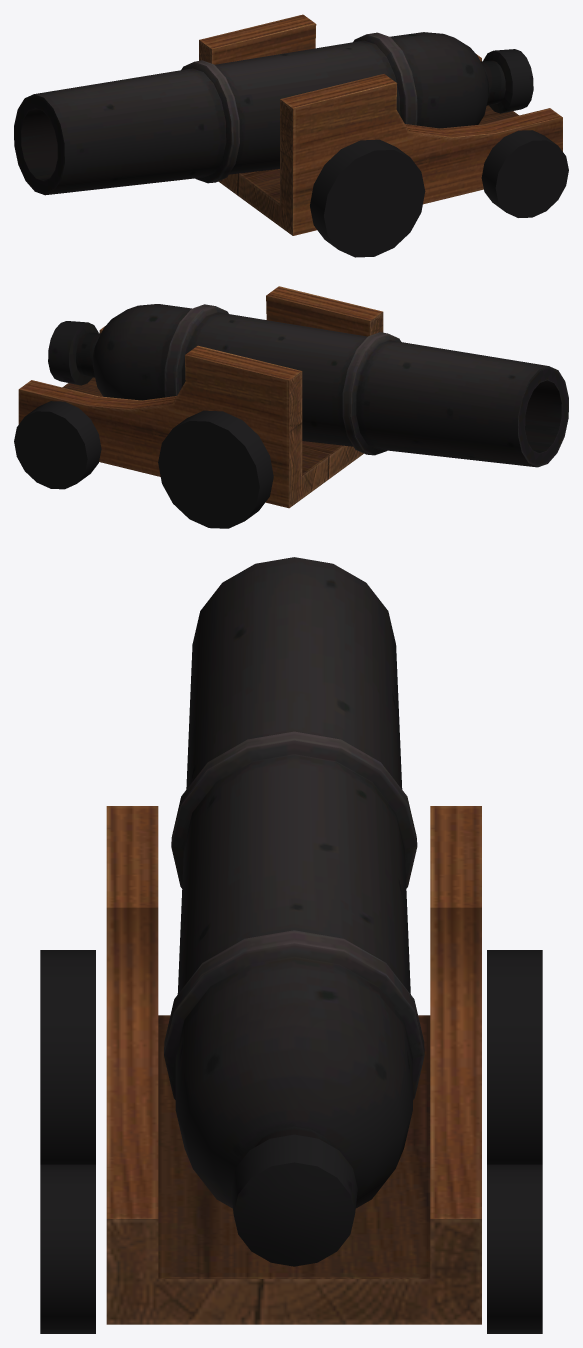
The model's file is Boat_Cannon.fbx.
3 views of the same model, one above another, from view 1: azimuth 30°, elevation 25°; view 2: azimuth 150°, elevation 25°; view 3: azimuth 270°, elevation 25° (orthographic). The views are drawn at different scales.
Visible parts, largest first — view 1: Boat_Cannon; view 2: Boat_Cannon; view 3: Boat_Cannon.
Boxes of the visible parts, x1,y1,x2,y2 form: Boat_Cannon: (14, 14, 568, 257); Boat_Cannon: (14, 286, 568, 528); Boat_Cannon: (40, 557, 542, 1333).
Size of the model in its own units: 3.24 by 1.13 by 1.45.
1 material, 1 textured.
